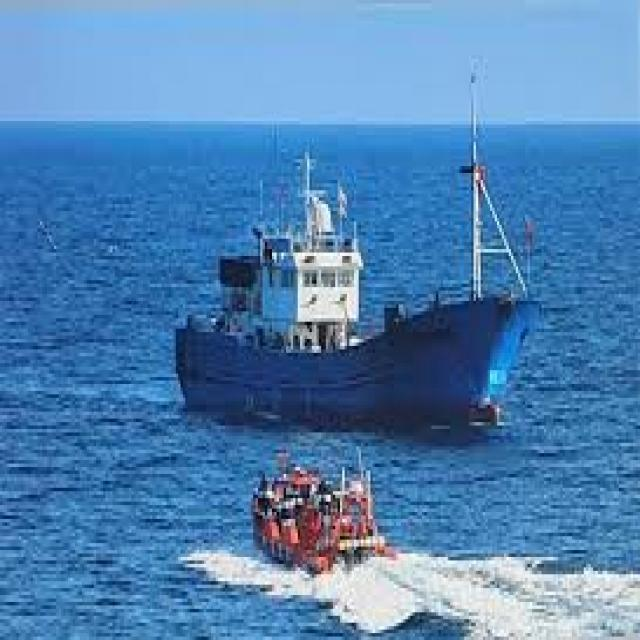Ship: (154, 67, 555, 465)
